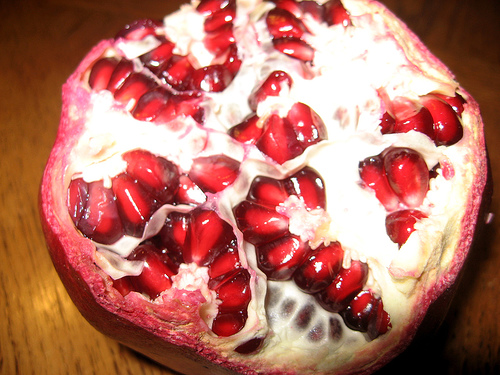pomogranate: (40, 0, 499, 374)
